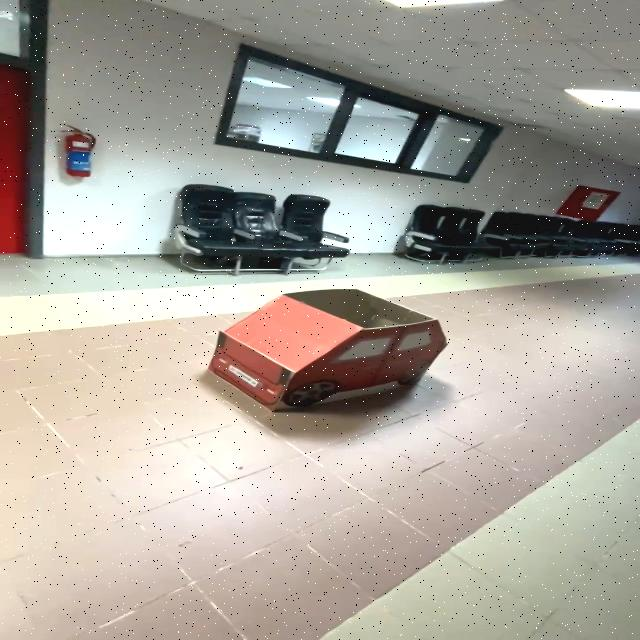red_car: (187, 275, 477, 418)
